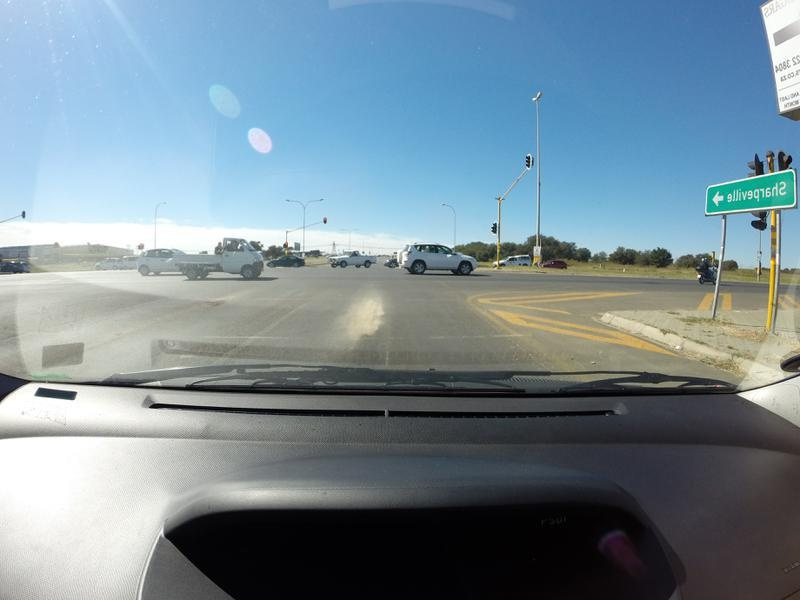pothole: (200, 297, 223, 305)
